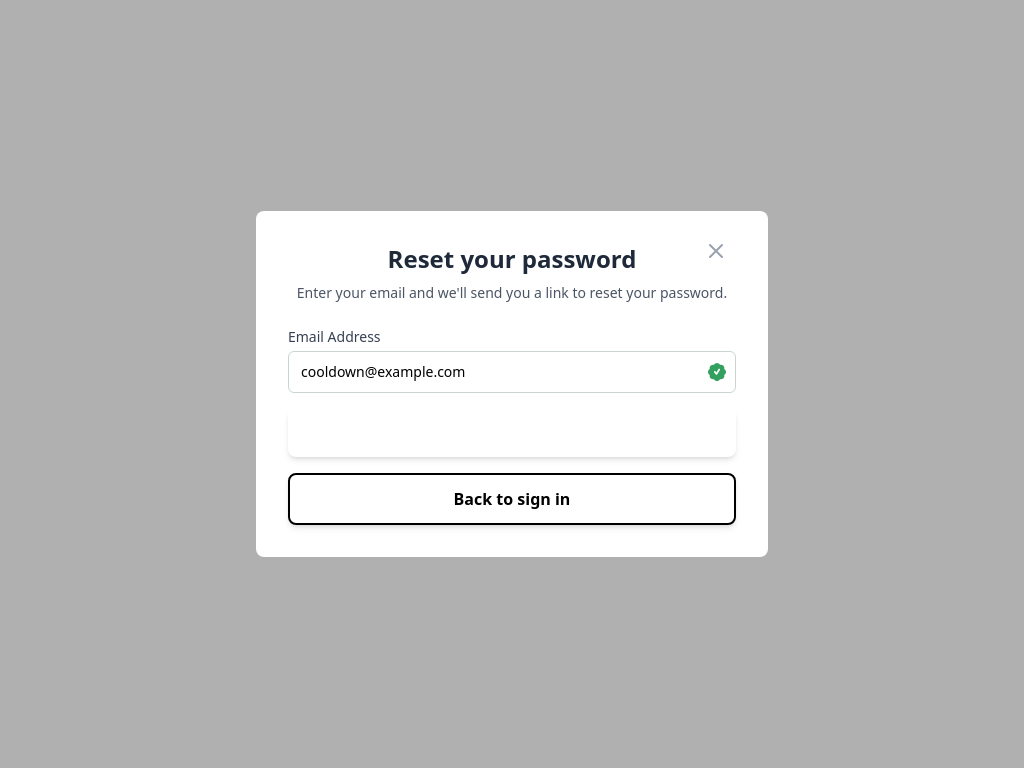
Scenario: ResetPasswordForm — cooldown countdown › should decrement cooldown timer after successful submit
Click the button "Send reset link" at x=512, y=433, box [288, 409, 736, 457]
Wait 2000 ms
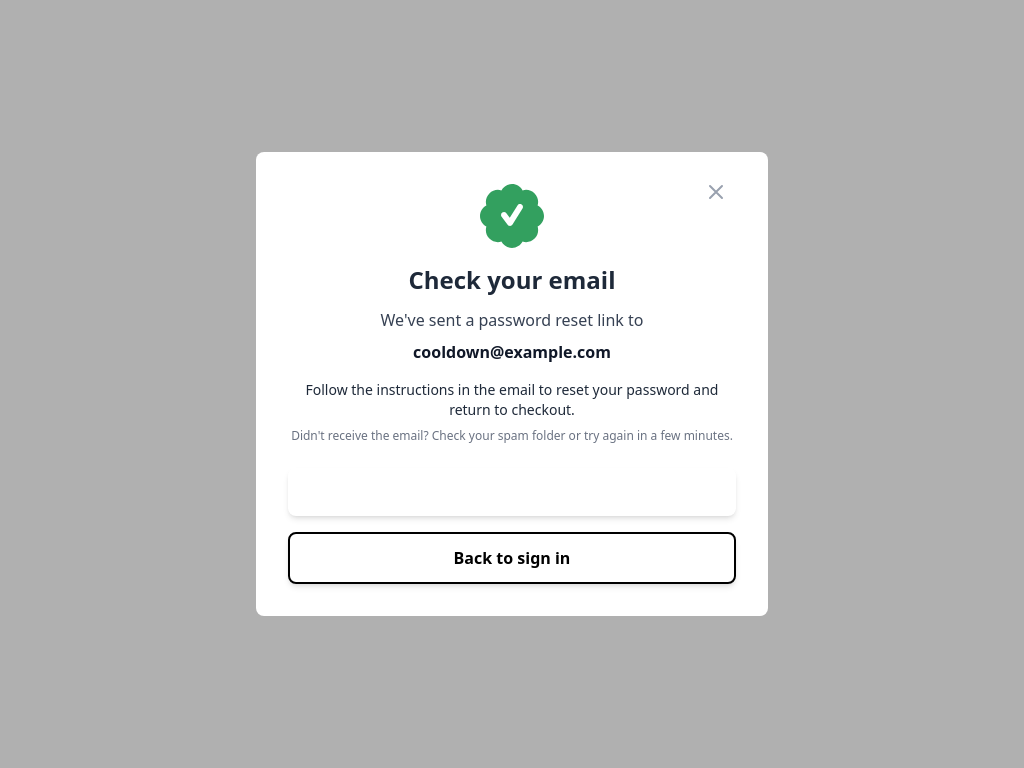
Now the heading "Check your email" is shown, box [408, 263, 616, 296]
